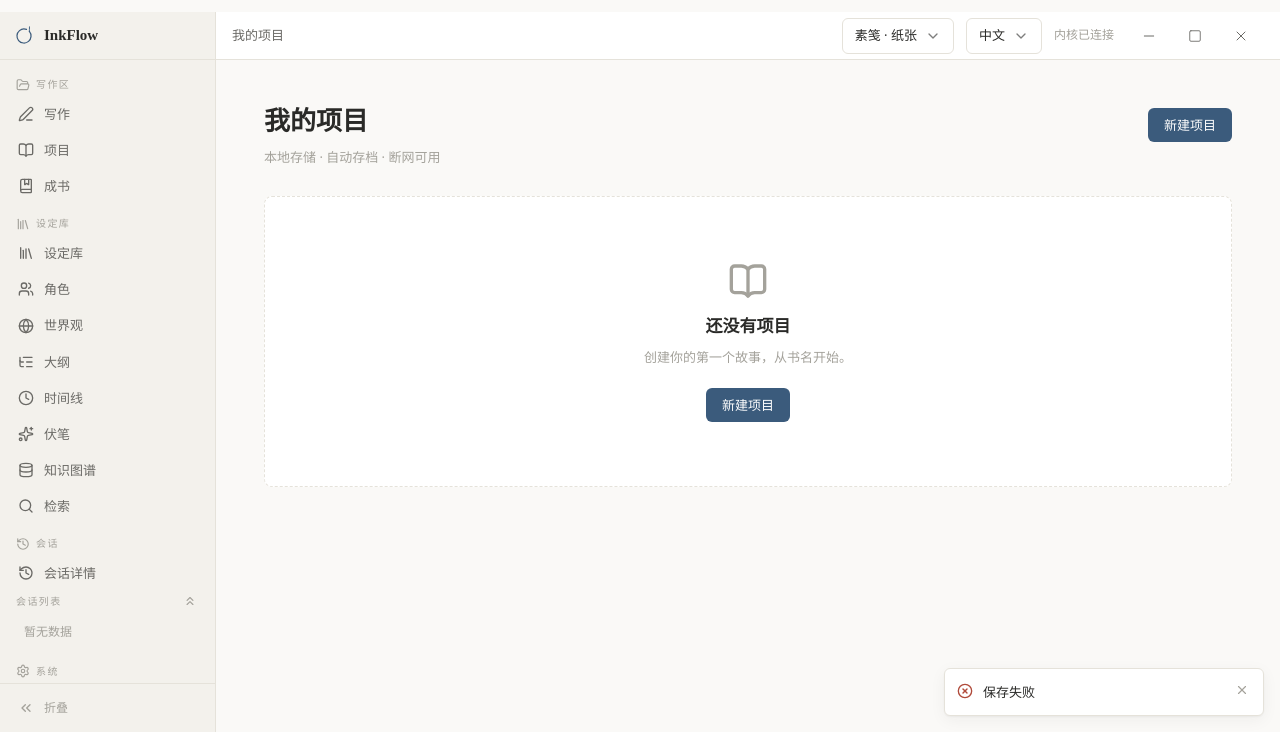
Test: App 顶栏 — 主题/语言 Radix Select 契约升级（#106 §8.2⑤，Q4=A） › 语言 Select：展开可见全部选项（双语）+ 选择直达生效（setLang）
Note: 展开可见全部选项（M5b：双语）
Click the dropdown with test id "header-lang-select" at (1004, 36), box [966, 18, 1042, 54]
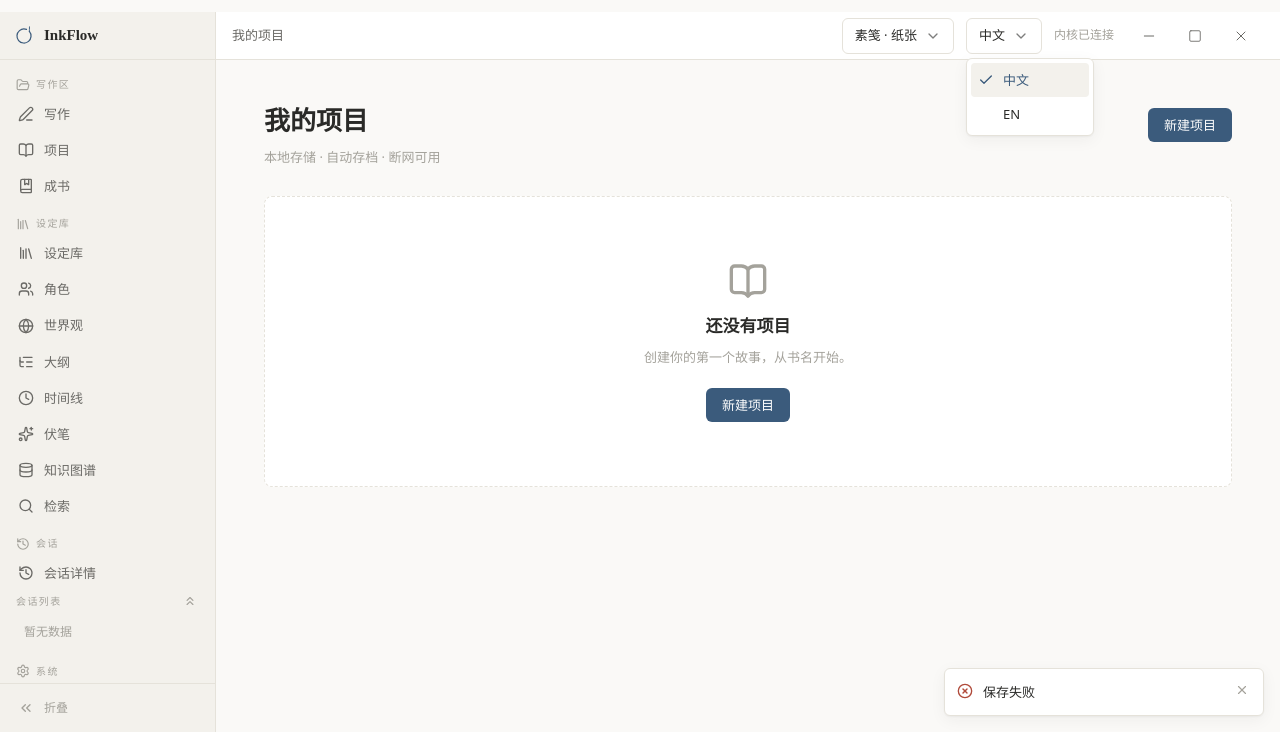
Expected: the option "中文" is shown, [971, 63, 1089, 97]
Expected: the option "EN" is shown
Note: 选择直达生效（M5b：选择 → setLang）
Click the option "EN" at (1012, 114), box [1003, 105, 1020, 123]
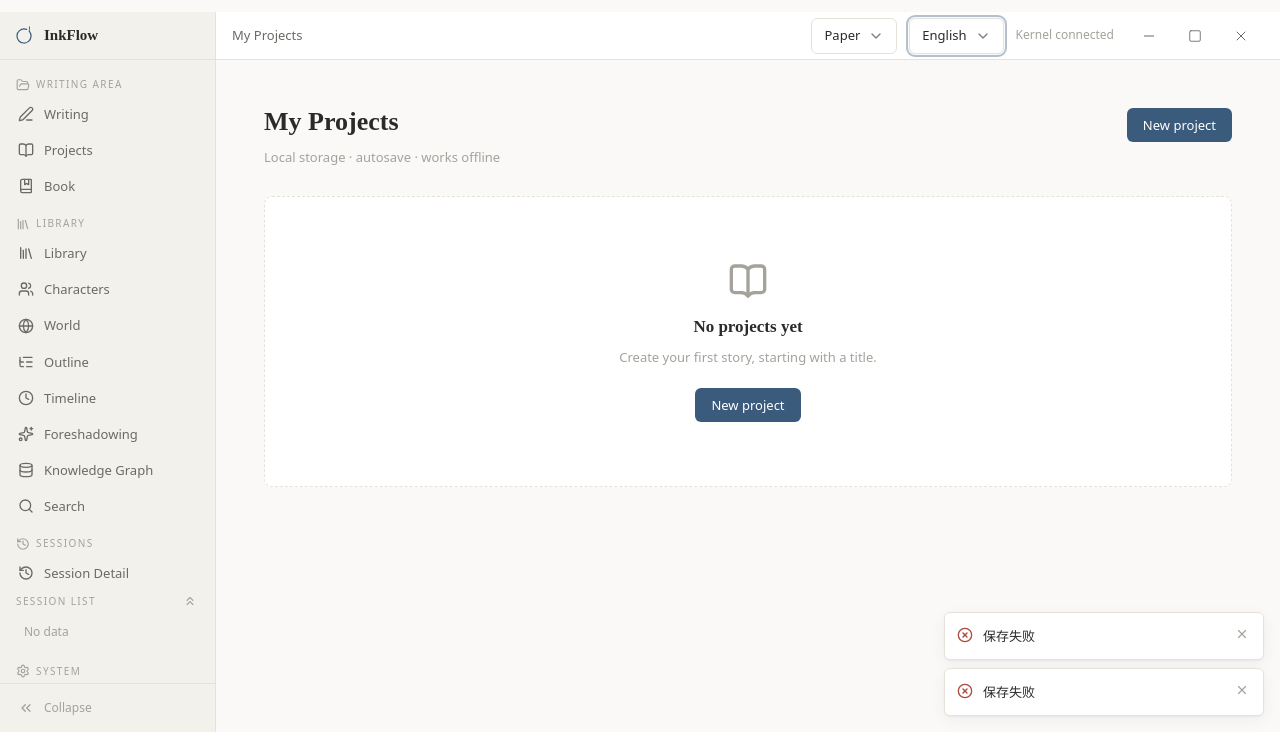
Expected: the dropdown with test id "header-lang-select" reads "English", [909, 18, 1004, 54]
